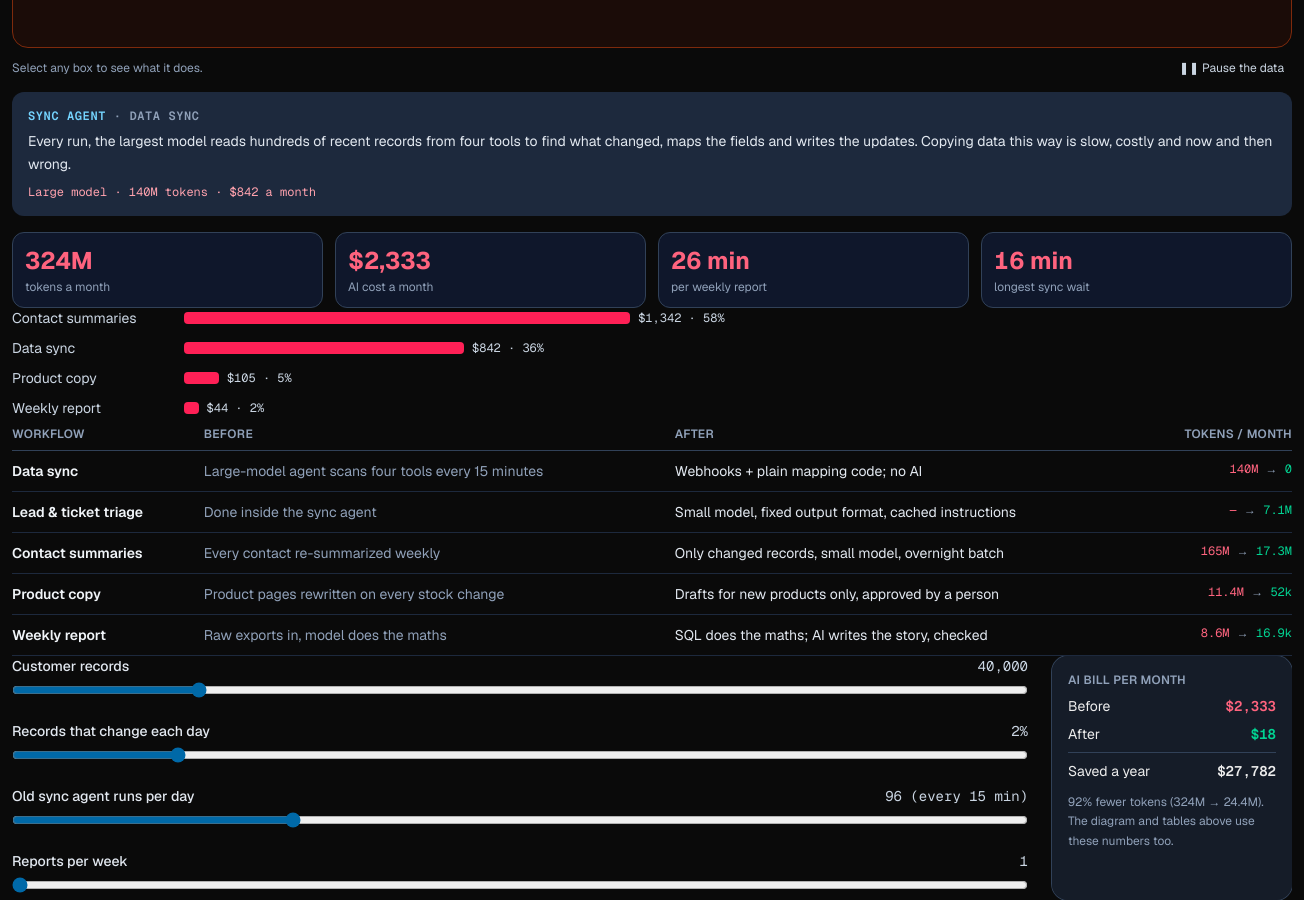
Test: AI cost case page › updates every number when the calculator changes, and can reset
This screenshot has width=1304, height=900.
(page scrolled)
Expected: the row "Data sync" shows "140M", [1230,461,1258,477]
Set the slider labelled "Old sync agent runs per day 96 (every 15 min)" to "24" at (20, 820), box [12,812,1028,828]
(page scrolled)
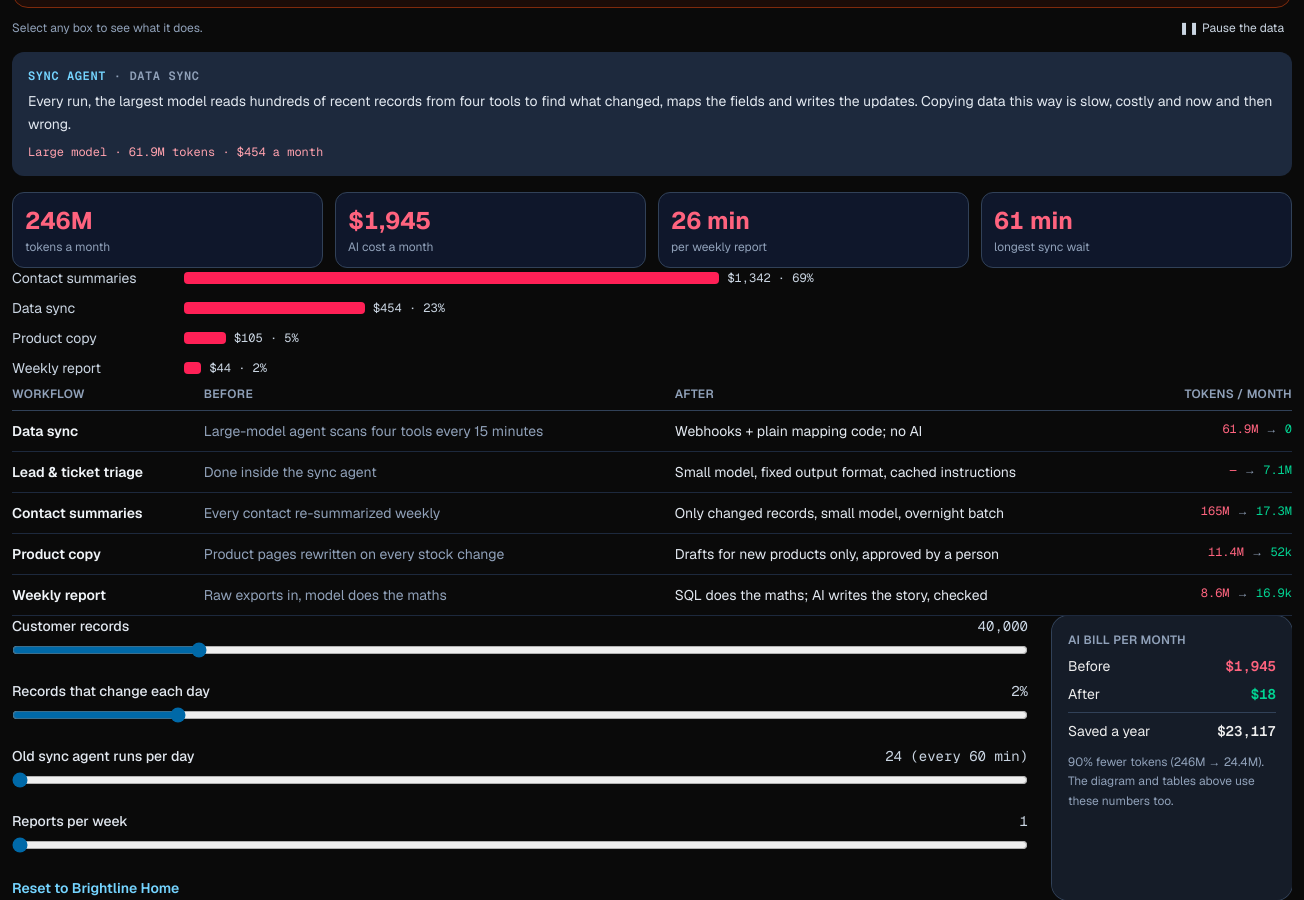
Result: the row "Data sync" no longer shows "140M" at [12,411,1292,451]
Result: the text "24 (every 60 min)" is shown at [885,746,1028,766]
Click the button "Reset to Brightline Home" at (96, 888), box [12,878,179,898]
(page scrolled)
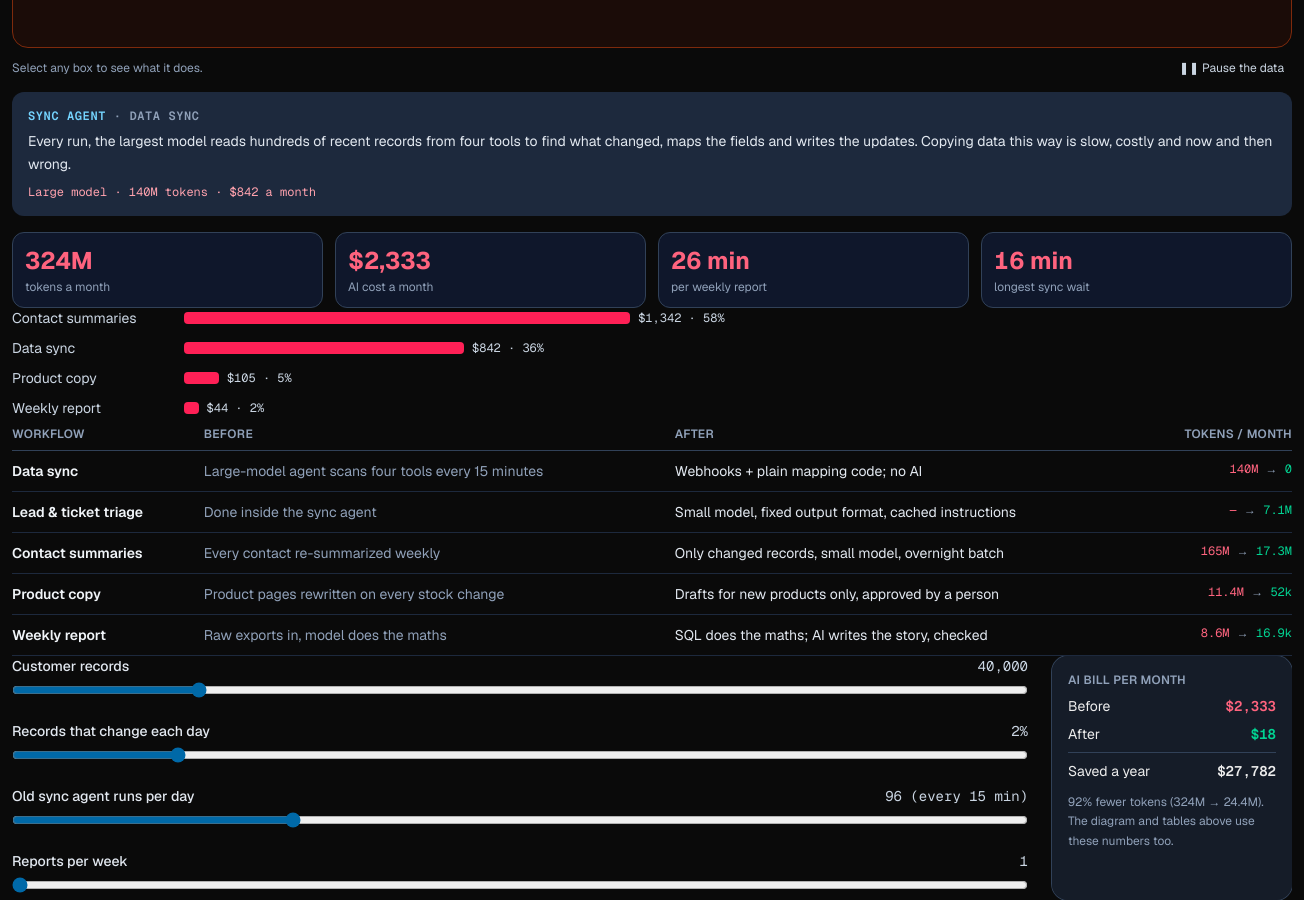
Result: the row "Data sync" shows "140M" at [1230,461,1258,477]
Result: the button "Reset to Brightline Home" is gone
